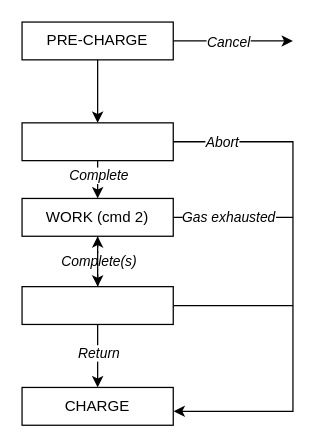
Image size: 325x447. Some labels were removed from this diagram. Here are the shapes that lost their labels. From the top down, the box of each, then its label:
(21, 122, 173, 161): WORK (cmd 1)
(21, 285, 173, 324): WORK (cmd n)
